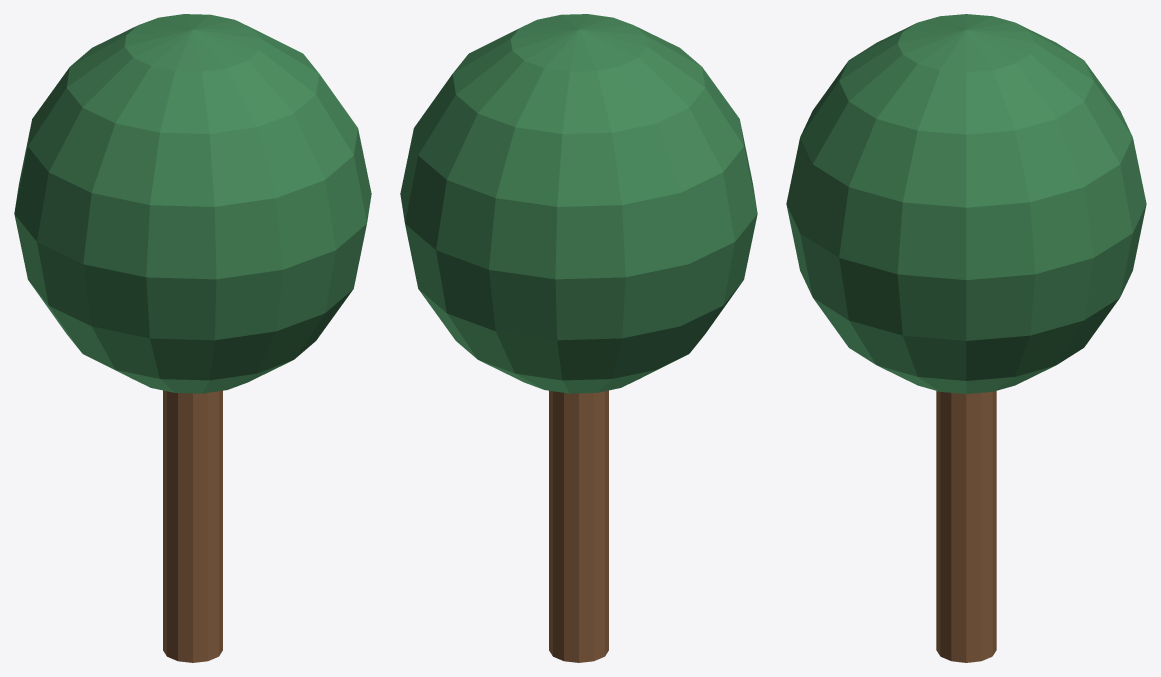
Rendered from Vegetation_013.glb.
The picture shows the model from 3 angles, left to right: view 1: azimuth 30°, elevation 25°; view 2: azimuth 150°, elevation 25°; view 3: azimuth 270°, elevation 25°; orthographic projection.
Visible parts, largest first — view 1: Vegetation_013; view 2: Vegetation_013; view 3: Vegetation_013.
Part boxes in pixels (<box>): Vegetation_013: <box>14,14,371,662</box>; Vegetation_013: <box>400,14,757,662</box>; Vegetation_013: <box>786,14,1146,662</box>.
Size of the model in its own units: 3.97 by 7.55 by 3.97.
